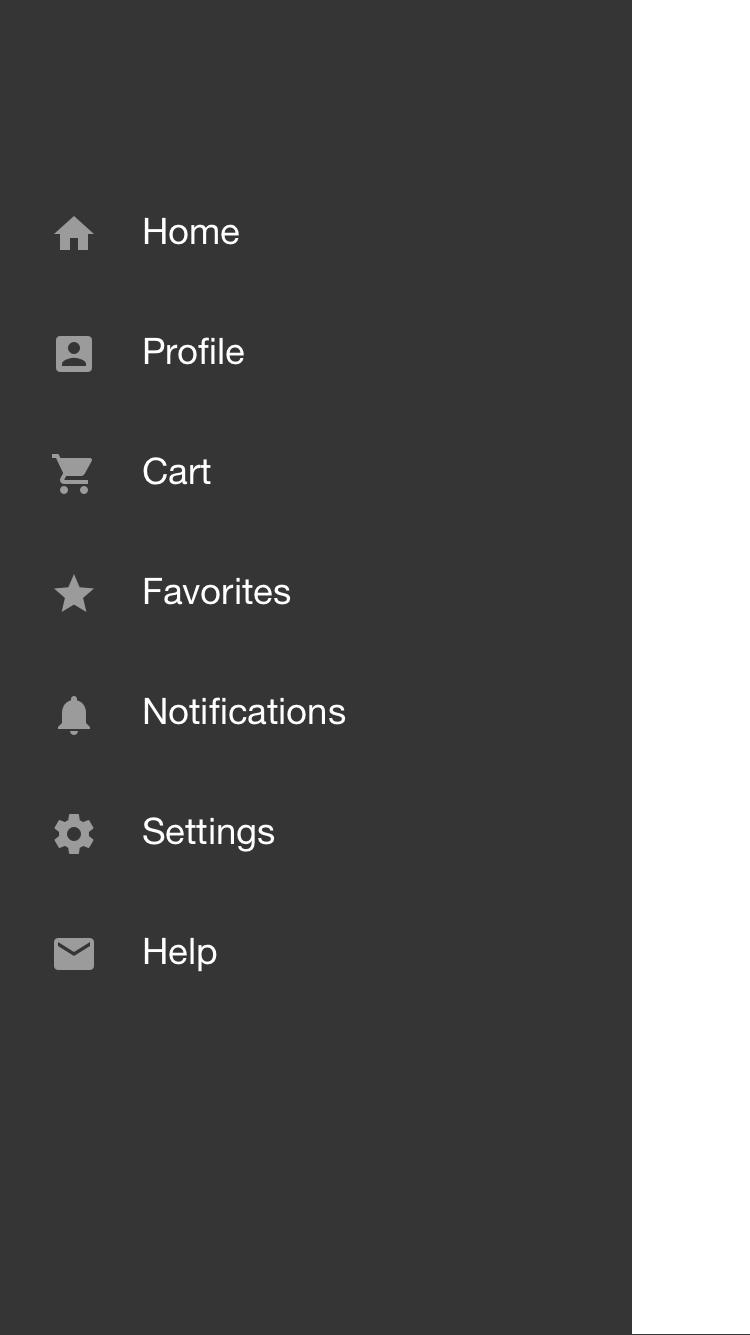Drawer: (1, 1, 632, 1335)
Icon: (51, 454, 94, 495), (55, 814, 95, 856), (54, 575, 94, 613), (54, 216, 96, 251), (57, 696, 92, 737), (54, 938, 96, 971), (56, 336, 94, 372)
Text: (144, 696, 348, 728), (143, 816, 276, 854), (143, 577, 293, 607), (143, 337, 246, 366), (144, 217, 241, 246), (144, 937, 219, 972), (144, 458, 215, 486)
